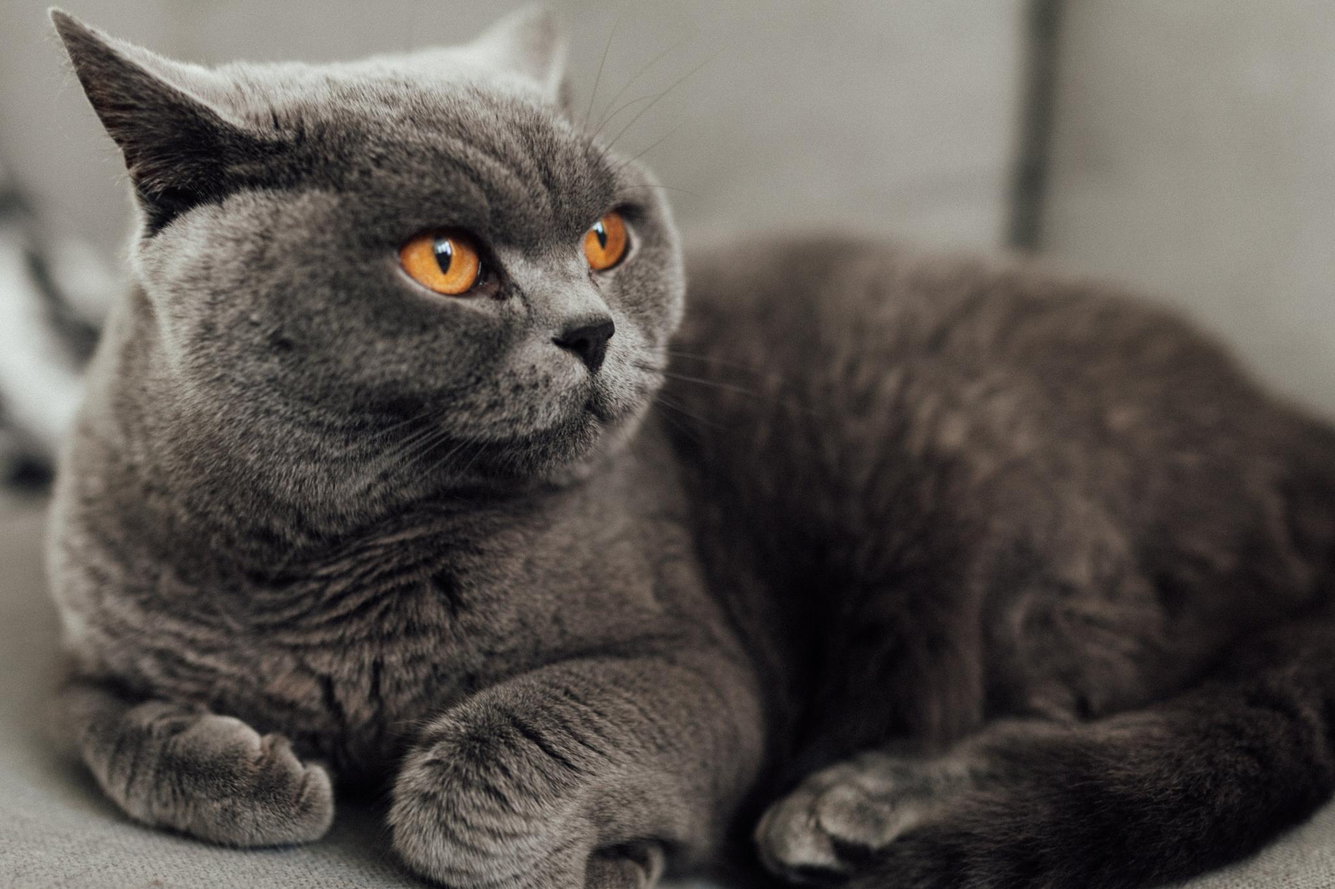cat: (39, 2, 1332, 886)
